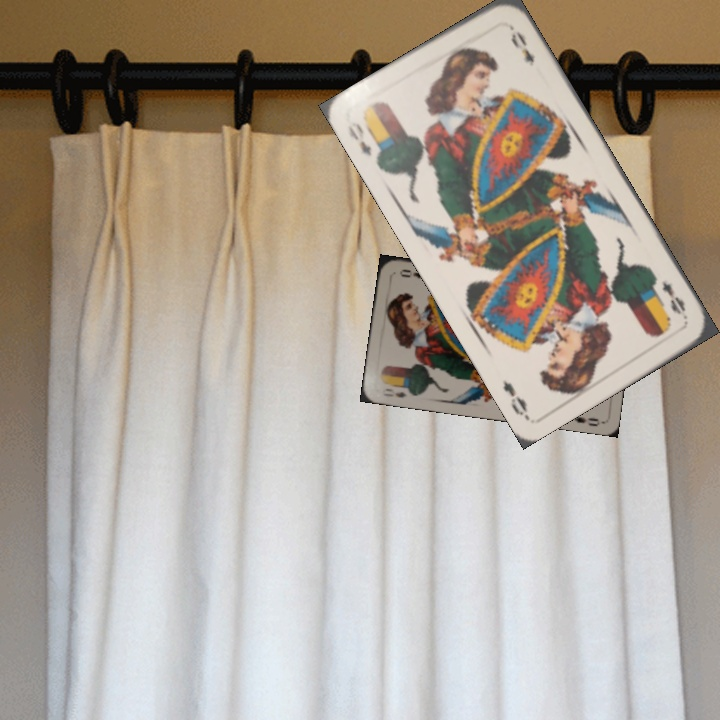EO: (343, 117, 375, 159), (657, 277, 688, 317), (379, 384, 409, 400)
